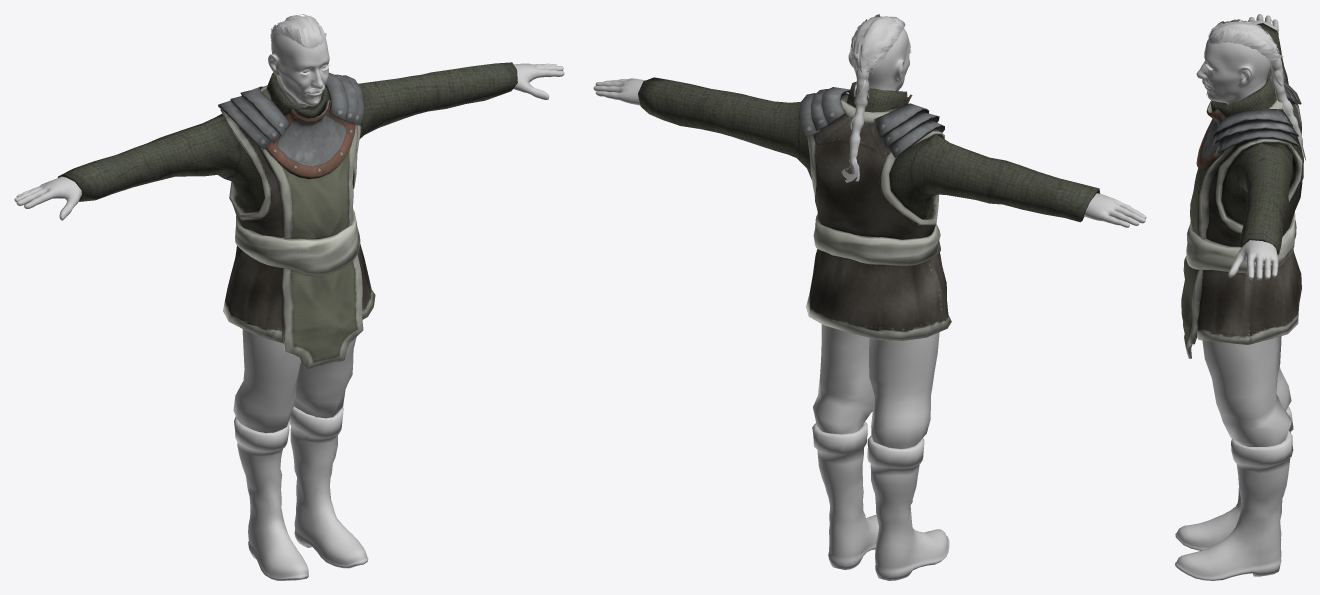
The model's file is oldsold.obj.
3 renders of one model, left to right at view 1: azimuth 30°, elevation 25°; view 2: azimuth 150°, elevation 25°; view 3: azimuth 270°, elevation 25°, orthographic.
Parts seen in each view (by area): view 1: Tops, Shoes, Bottoms, Body, Hair; view 2: Tops, Shoes, Bottoms, Body, Hair; view 3: Tops, Shoes, Bottoms, Body, Hair.
Part boxes in pixels (bbox=[...]): Tops: bbox=[58, 62, 517, 369]; Shoes: bbox=[234, 406, 368, 580]; Bottoms: bbox=[233, 329, 356, 433]; Body: bbox=[14, 34, 564, 220]; Hair: bbox=[270, 14, 326, 48]; Tops: bbox=[638, 77, 1099, 340]; Shoes: bbox=[812, 421, 949, 580]; Bottoms: bbox=[813, 324, 939, 448]; Body: bbox=[593, 28, 1146, 227]; Hair: bbox=[841, 14, 905, 182]; Tops: bbox=[1181, 23, 1303, 358]; Shoes: bbox=[1175, 407, 1293, 580]; Bottoms: bbox=[1202, 336, 1291, 446]; Body: bbox=[1196, 14, 1278, 280]; Hair: bbox=[1208, 19, 1305, 160].
Size of the model in its own units: 193 by 182 by 40.23.
